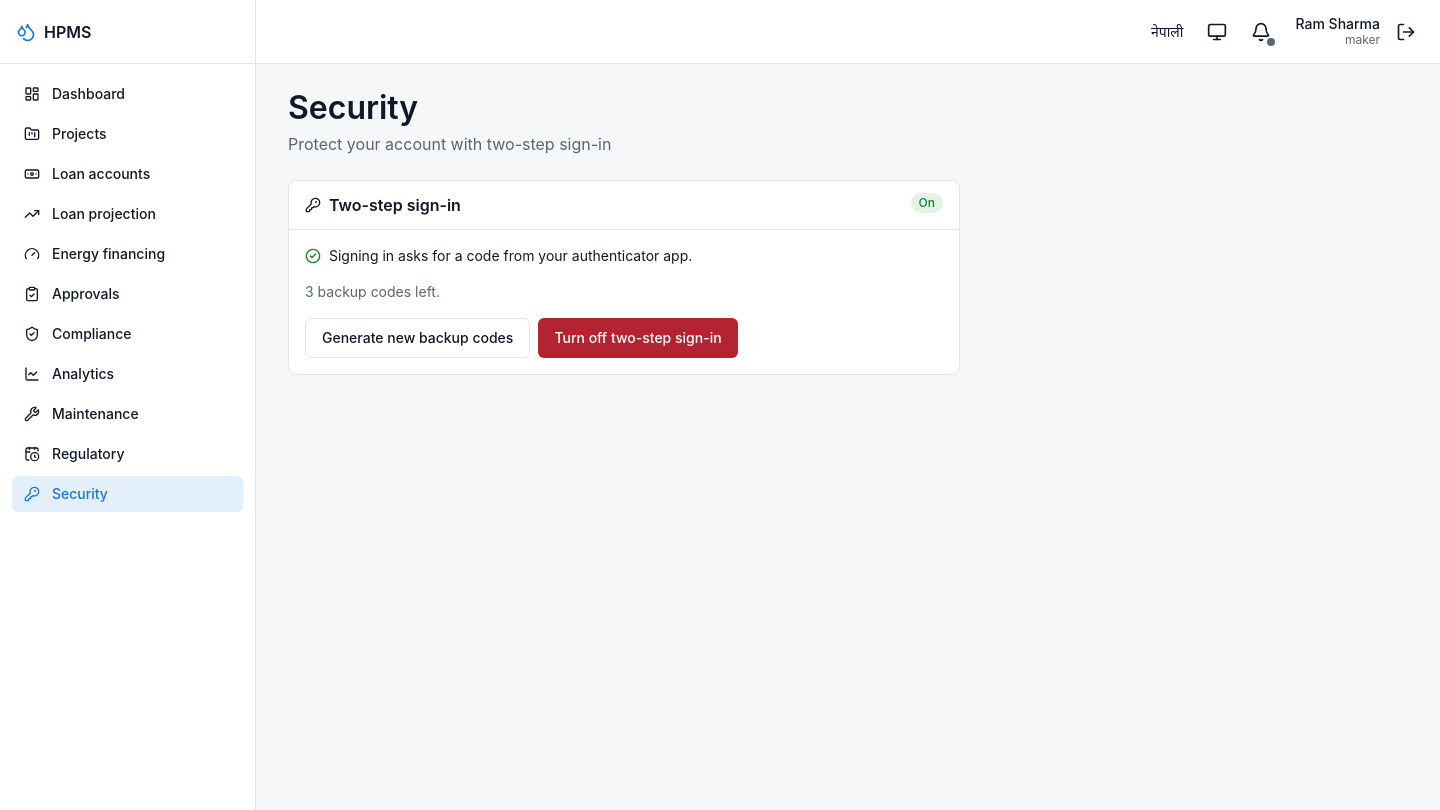
Test case: Security page › turns MFA off only after a code is confirmed
Step 1. Click the button "Turn off two-step sign-in" → coordinates (638, 338), box [538,318,738,358]
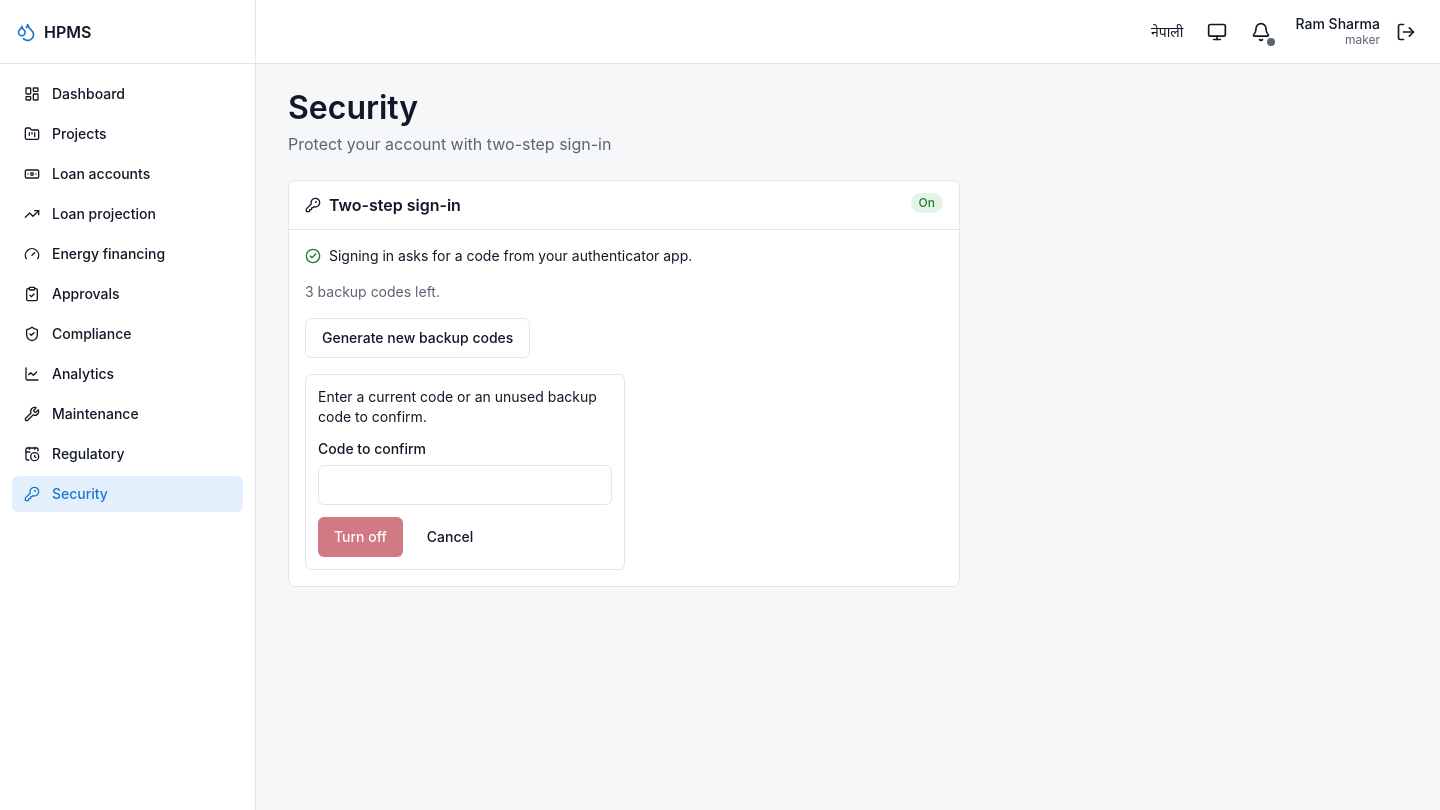
Step 2. Type "000000" into the field labelled "Code to confirm" → coordinates (465, 485), box [318,465,612,505]
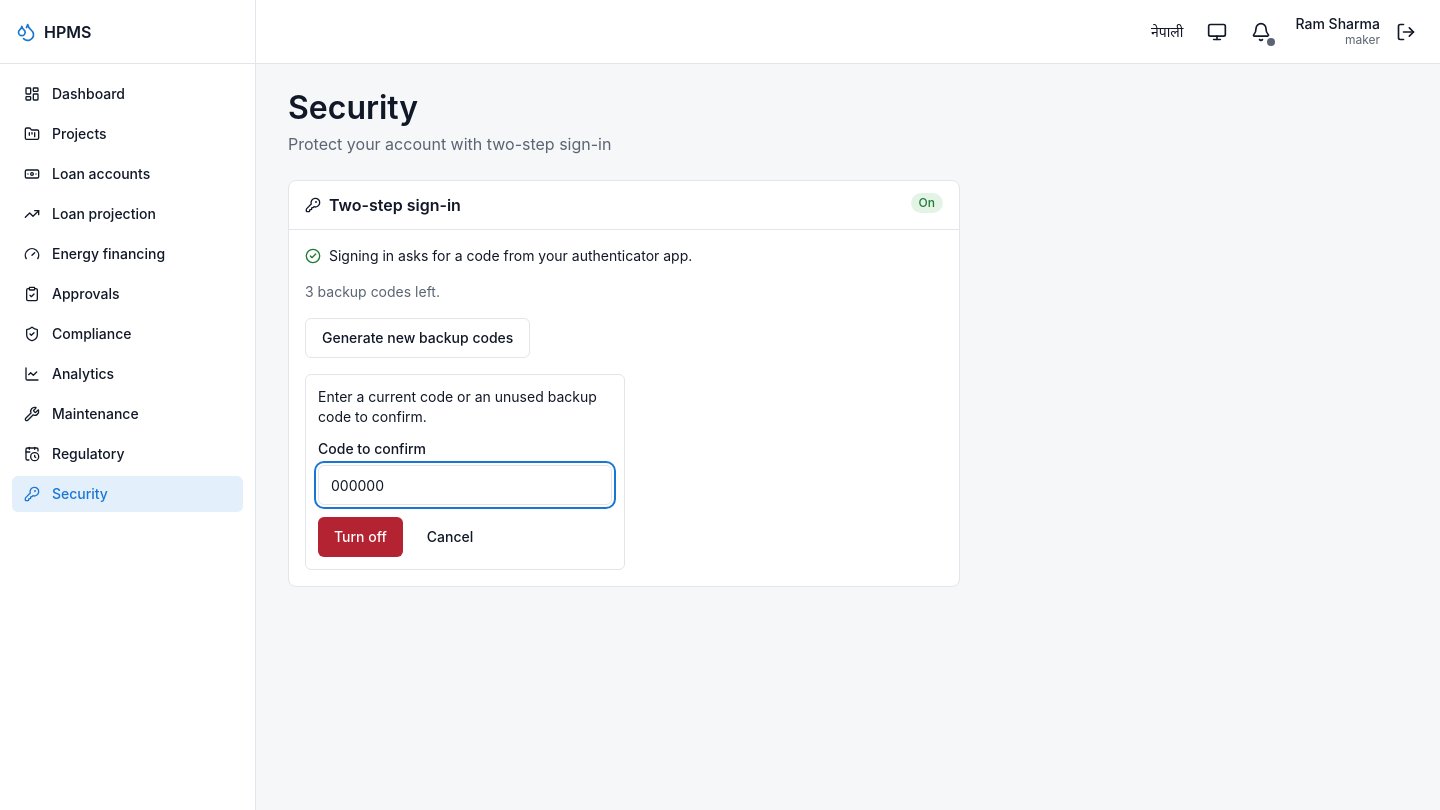
Step 3. Click the button "Turn off" → coordinates (360, 537), box [318,517,403,557]
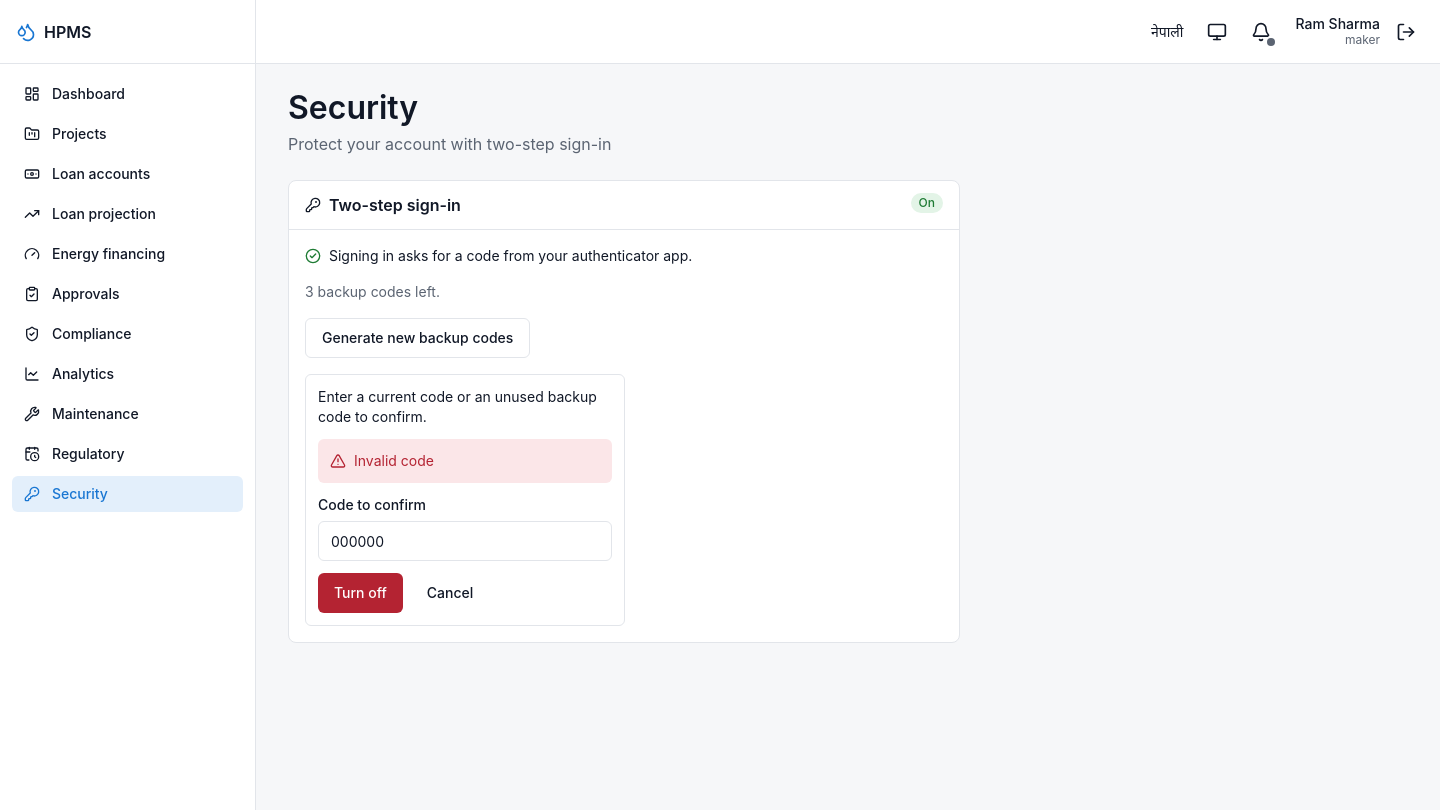
Check: the message reads "Invalid code", box [354,452,434,469]
Step 4. Replace the text in the field labelled "Code to confirm" with "123456" → coordinates (465, 541), box [318,521,612,561]
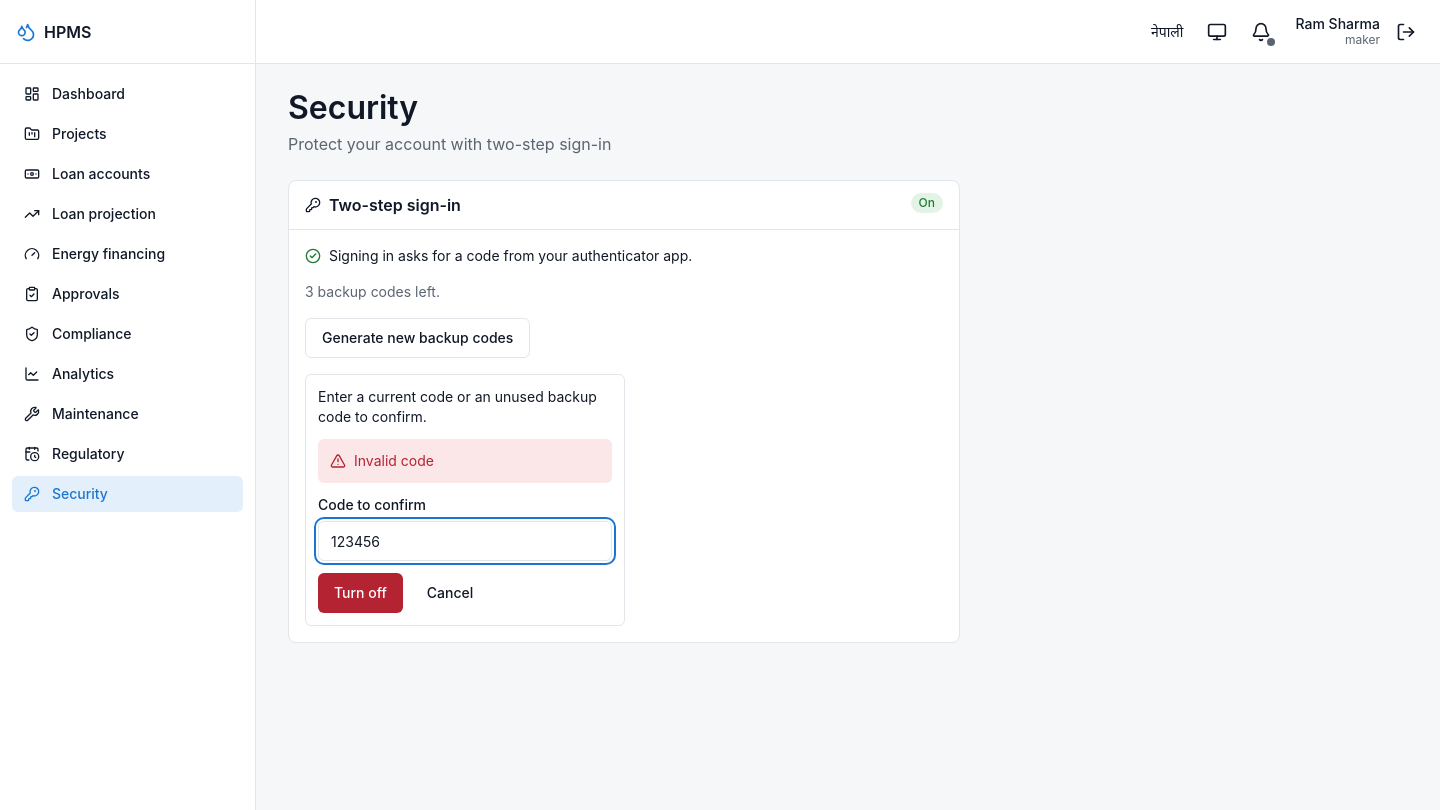
Step 5. Click the button "Turn off" → coordinates (360, 593), box [318,573,403,613]
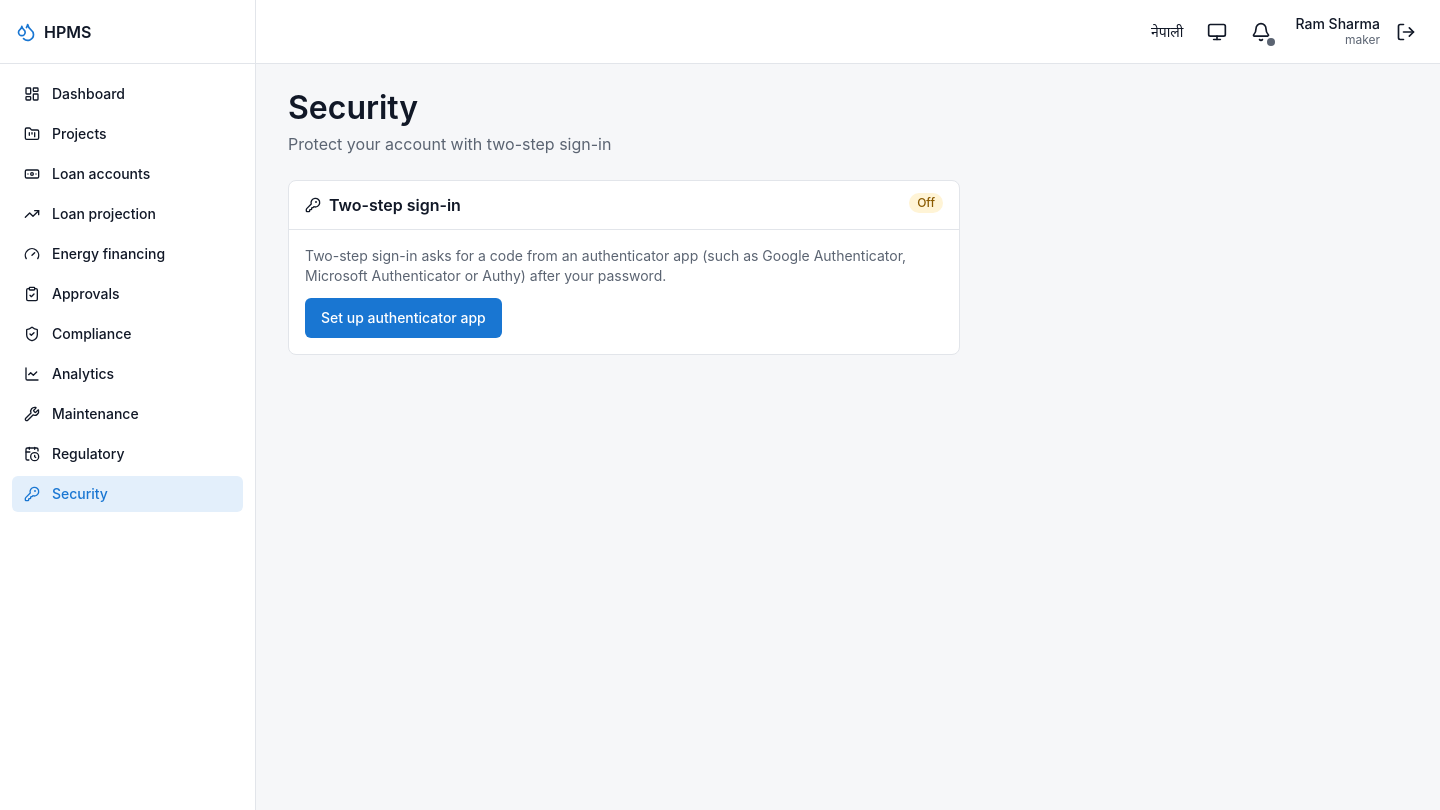
Check: the button "Set up authenticator app" is shown, box [305,298,502,338]
